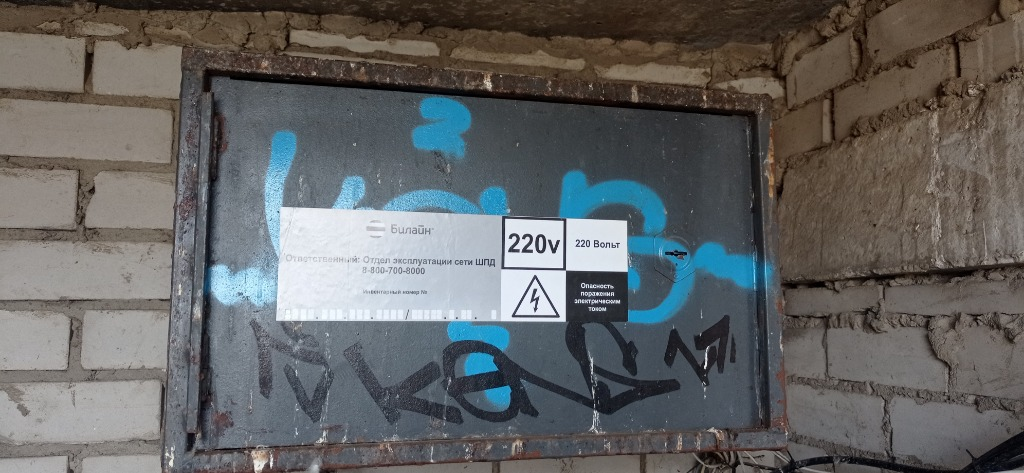e2-6u: (157, 34, 796, 473)
